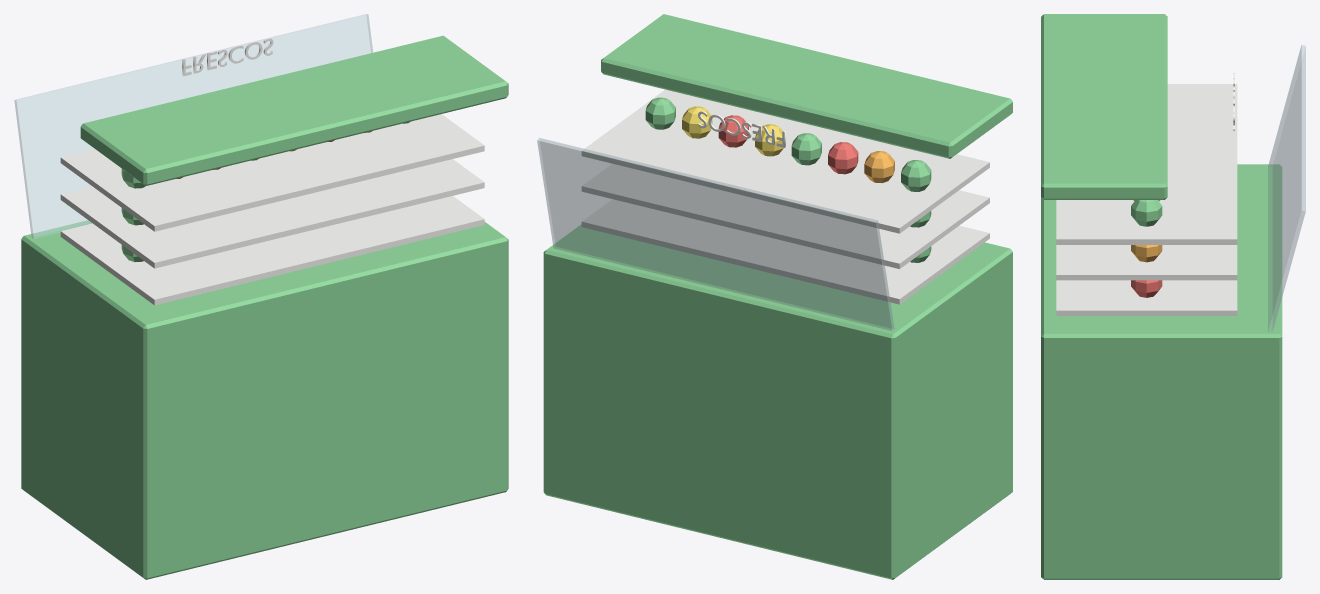
File: Vitrina_Frescos.fbx
The picture shows the model from 3 angles, left to right: view 1: azimuth 30°, elevation 25°; view 2: azimuth 150°, elevation 25°; view 3: azimuth 270°, elevation 25°; orthographic projection. The views are drawn at different scales.
Parts seen in each view (by area): view 1: Vitrina_Frescos | Base vitrina, Vitrina_Frescos | Techo vitrina, Vitrina_Frescos | Cristal frontal, Vitrina_Frescos | Bandeja frescos.002, Vitrina_Frescos | Bandeja frescos, Vitrina_Frescos | Bandeja frescos.001, Vitrina_Frescos | Texto vitrina; view 2: Vitrina_Frescos | Base vitrina, Vitrina_Frescos | Cristal frontal, Vitrina_Frescos | Techo vitrina, Vitrina_Frescos | Bandeja frescos.002, Vitrina_Frescos | Bandeja frescos.001, Vitrina_Frescos | Bandeja frescos, Vitrina_Frescos | Texto vitrina, Vitrina_Frescos | Producto fresco.019, Vitrina_Frescos | Producto fresco.023, Vitrina_Frescos | Producto fresco.018, Vitrina_Frescos | Producto fresco.016, Vitrina_Frescos | Producto fresco.017 (+3 smaller); view 3: Vitrina_Frescos | Base vitrina, Vitrina_Frescos | Techo vitrina, Vitrina_Frescos | Bandeja frescos.002, Vitrina_Frescos | Cristal frontal, Vitrina_Frescos | Bandeja frescos.001, Vitrina_Frescos | Bandeja frescos, Vitrina_Frescos | Producto fresco.023, Vitrina_Frescos | Producto fresco.007, Vitrina_Frescos | Producto fresco.015.
Part boxes in pixels (<box>): Vitrina_Frescos | Base vitrina: <box>21,220,508,579</box>; Vitrina_Frescos | Techo vitrina: <box>80,35,508,185</box>; Vitrina_Frescos | Cristal frontal: <box>14,14,372,238</box>; Vitrina_Frescos | Bandeja frescos.002: <box>60,114,484,231</box>; Vitrina_Frescos | Bandeja frescos: <box>60,196,484,305</box>; Vitrina_Frescos | Bandeja frescos.001: <box>60,159,484,268</box>; Vitrina_Frescos | Texto vitrina: <box>182,38,273,76</box>; Vitrina_Frescos | Base vitrina: <box>543,224,1012,579</box>; Vitrina_Frescos | Cristal frontal: <box>537,138,894,330</box>; Vitrina_Frescos | Techo vitrina: <box>601,14,1012,158</box>; Vitrina_Frescos | Bandeja frescos.002: <box>581,89,989,233</box>; Vitrina_Frescos | Bandeja frescos.001: <box>581,164,989,268</box>; Vitrina_Frescos | Bandeja frescos: <box>581,199,989,304</box>; Vitrina_Frescos | Texto vitrina: <box>698,111,785,147</box>; Vitrina_Frescos | Producto fresco.019: <box>791,133,821,165</box>; Vitrina_Frescos | Producto fresco.023: <box>645,97,675,129</box>; Vitrina_Frescos | Producto fresco.018: <box>828,142,858,174</box>; Vitrina_Frescos | Producto fresco.016: <box>901,160,931,191</box>; Vitrina_Frescos | Producto fresco.017: <box>864,151,894,182</box>; Vitrina_Frescos | Base vitrina: <box>1041,164,1282,579</box>; Vitrina_Frescos | Techo vitrina: <box>1041,14,1167,199</box>; Vitrina_Frescos | Bandeja frescos.002: <box>1056,84,1237,244</box>; Vitrina_Frescos | Cristal frontal: <box>1268,45,1305,331</box>; Vitrina_Frescos | Bandeja frescos.001: <box>1056,245,1237,280</box>; Vitrina_Frescos | Bandeja frescos: <box>1056,280,1237,315</box>; Vitrina_Frescos | Producto fresco.023: <box>1131,200,1162,226</box>; Vitrina_Frescos | Producto fresco.007: <box>1131,280,1162,297</box>; Vitrina_Frescos | Producto fresco.015: <box>1131,245,1162,262</box>.
Size of the model in its own units: 1.35 by 1.47 by 0.8778.
